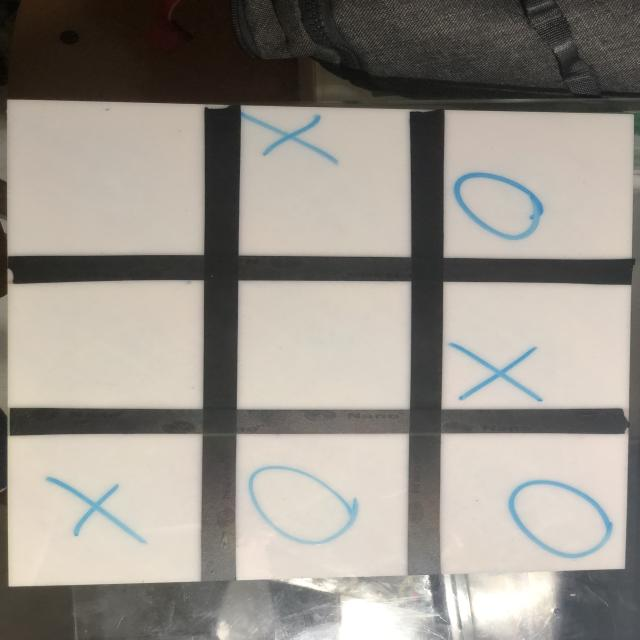null: (9, 98, 202, 255), (9, 274, 204, 411), (240, 280, 409, 406)
o: (247, 462, 358, 550), (504, 476, 616, 562), (453, 169, 546, 244)
table: (0, 98, 635, 601)
x: (41, 477, 145, 546), (450, 337, 547, 403), (242, 109, 342, 170)
